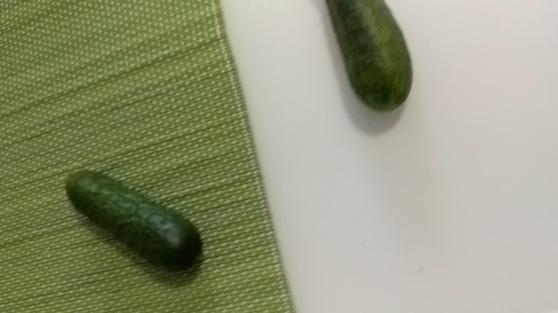cucumber: (65, 169, 206, 273), (323, 1, 420, 109)
